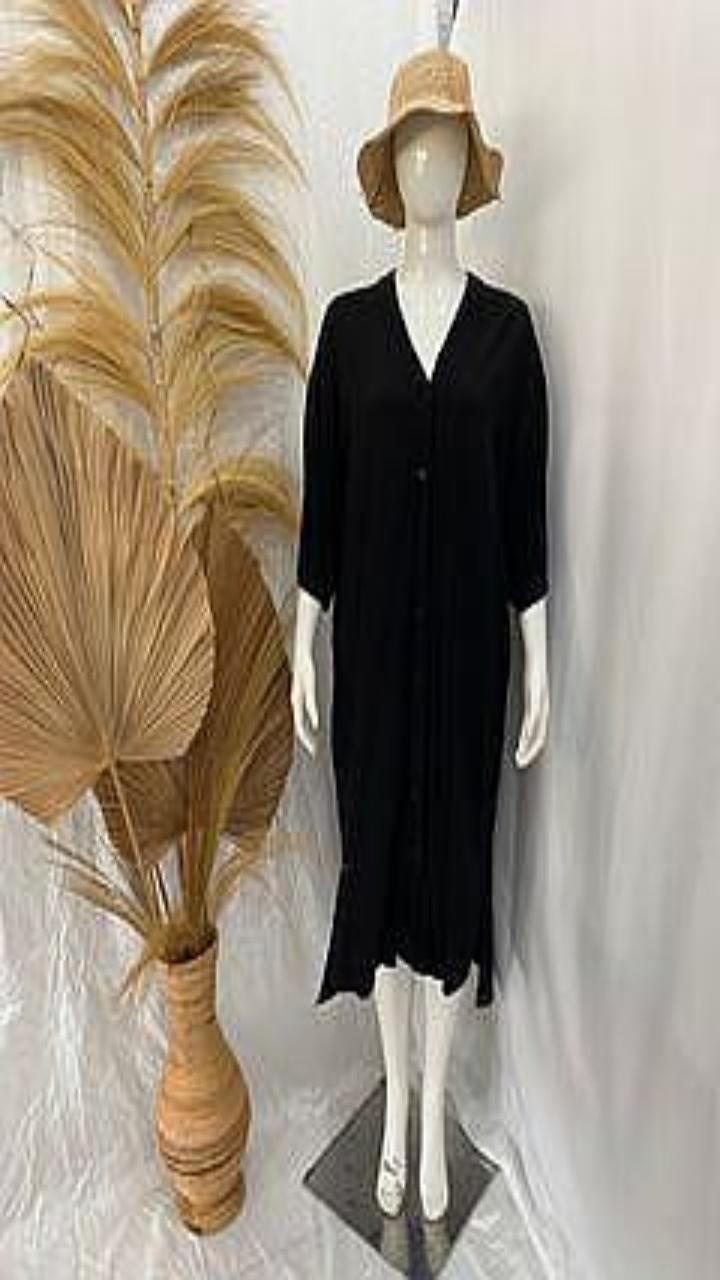Dresses: (297, 271, 547, 1004)
